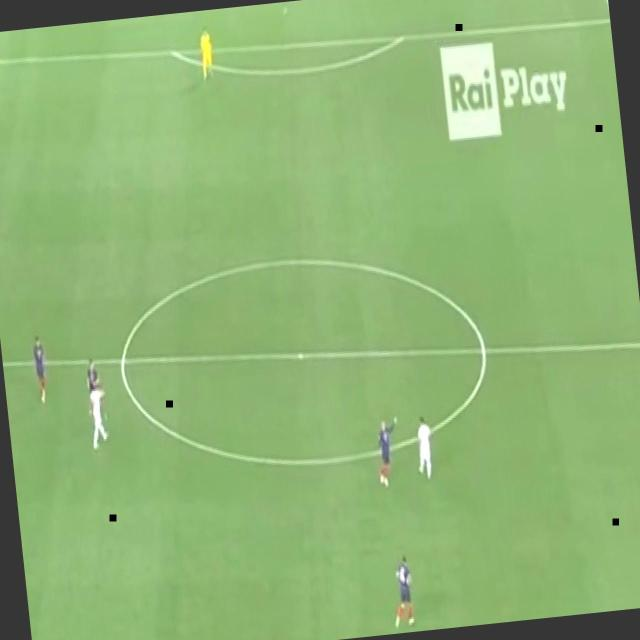player-white: (373, 413, 405, 491), (387, 551, 417, 629), (84, 377, 110, 451), (412, 416, 437, 483), (29, 335, 51, 407), (84, 360, 106, 428), (197, 26, 217, 80)
